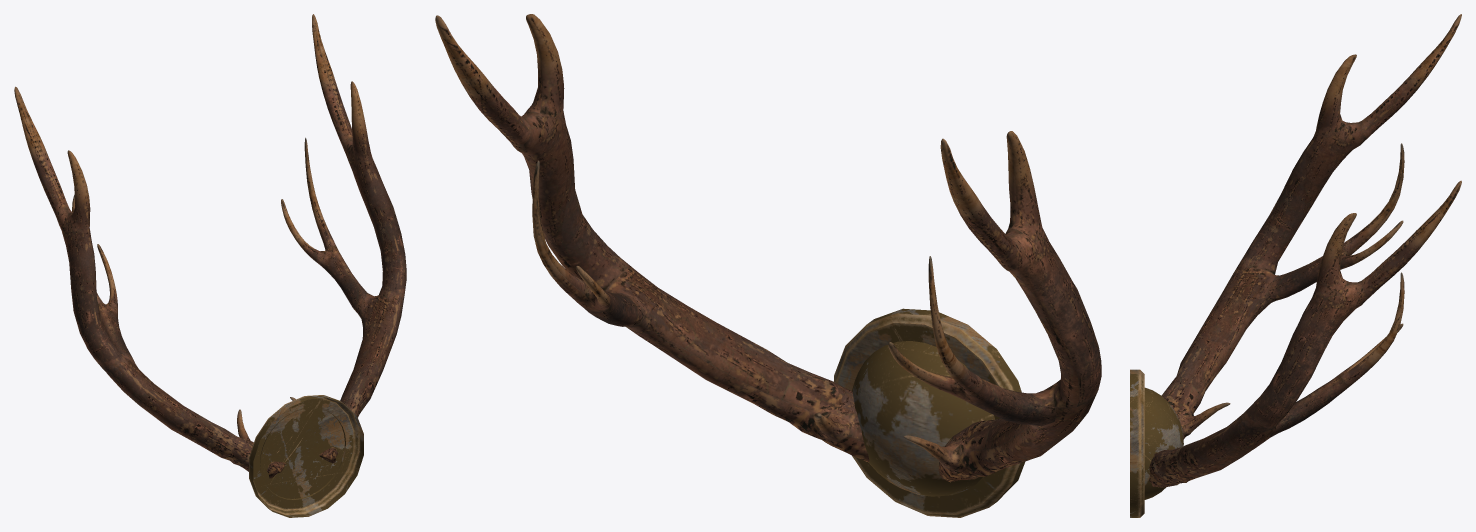
The model's file is Prop_Horn.fbx.
3 views of the same model, side by side, from view 1: azimuth 30°, elevation 25°; view 2: azimuth 150°, elevation 25°; view 3: azimuth 270°, elevation 25° (orthographic). The views are drawn at different scales.
Parts seen in each view (by area): view 1: Prop_Horn; view 2: Prop_Horn; view 3: Prop_Horn.
Part boxes in pixels (x1,y1,x2,y2): Prop_Horn: (14, 14, 406, 517); Prop_Horn: (435, 14, 1101, 517); Prop_Horn: (1130, 14, 1461, 517).
Bounding box in the file's own units: 40.5 × 43.15 × 31.36.
